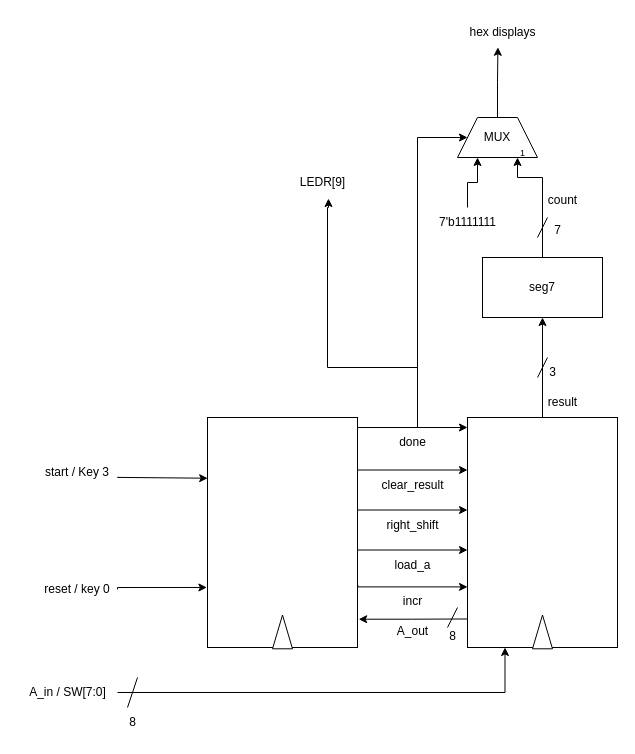
The diagram is 635 pixels wide and 754 high, and some of its shapes have lost their labels. The box of each missing label's shape, as (x1, y1, x2, y2) in pixels:
counter controller: (206, 416, 358, 648)
counter datapath: (466, 416, 618, 648)
